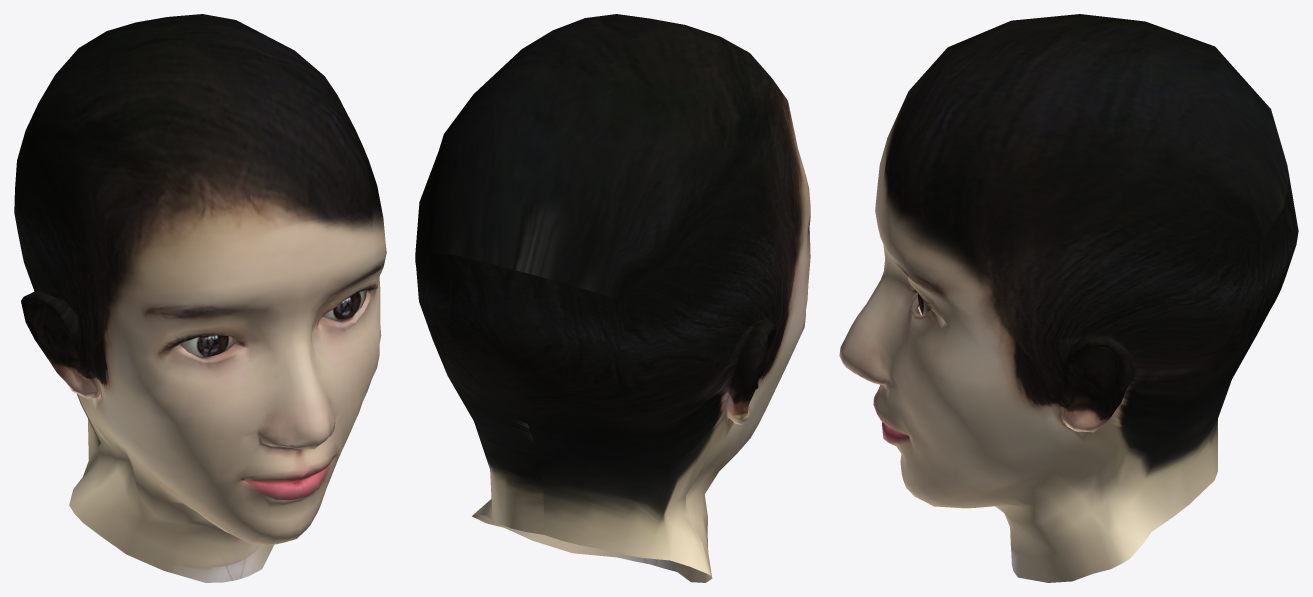
Rendered from Head9.obj.
The picture shows the model from 3 angles, left to right: view 1: azimuth 30°, elevation 25°; view 2: azimuth 150°, elevation 25°; view 3: azimuth 270°, elevation 25°; orthographic projection. The views are drawn at different scales.
Visible parts, largest first — view 1: face Frame_face group1 group3, group1 group3 Frame_eye pSphere2, group1 group3 pSphere1 Frame_eye; view 2: face Frame_face group1 group3; view 3: face Frame_face group1 group3.
Part boxes in pixels (left/top/right/bottom): face Frame_face group1 group3: left=14, top=14, right=386, bottom=582; group1 group3 Frame_eye pSphere2: left=179, top=335, right=235, bottom=357; group1 group3 pSphere1 Frame_eye: left=323, top=290, right=366, bottom=321; face Frame_face group1 group3: left=415, top=14, right=810, bottom=582; face Frame_face group1 group3: left=839, top=14, right=1298, bottom=582.
Bounding box in the file's own units: 2.89 × 4.5 × 3.5.
Materials: 2 (2 with a texture image).
